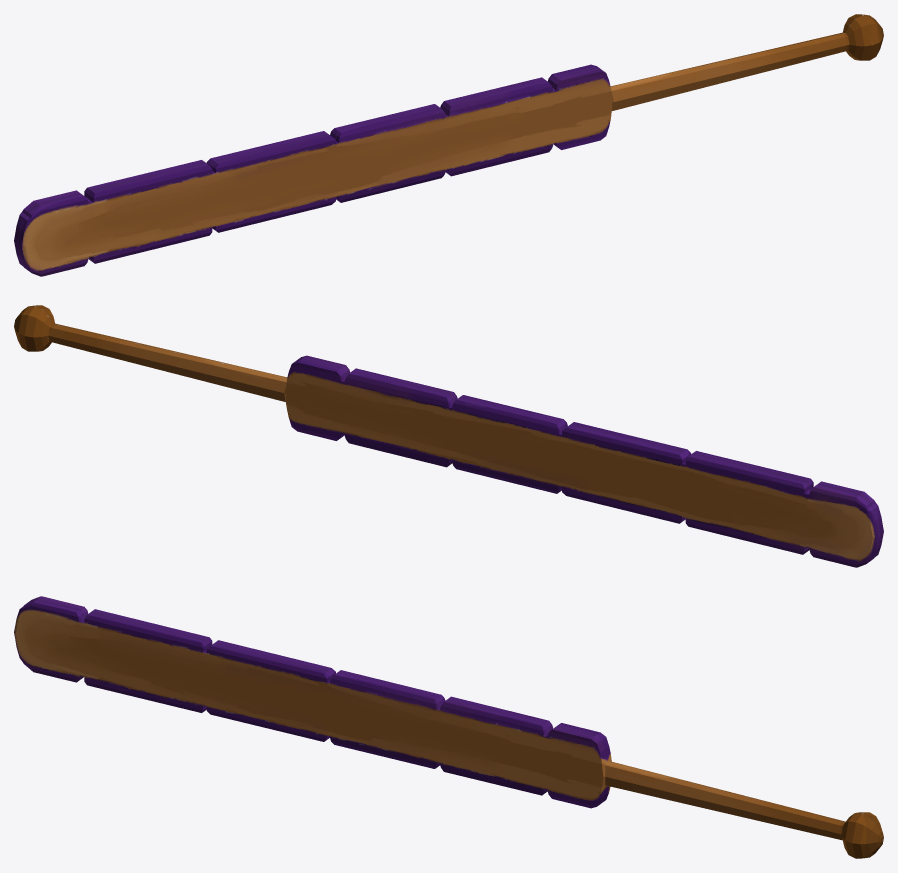
Rendered from CLub_Sword.obj.
The picture shows the model from 3 angles, top to bottom: view 1: azimuth 30°, elevation 25°; view 2: azimuth 150°, elevation 25°; view 3: azimuth 330°, elevation 25°; orthographic projection.
Parts seen in each view (by area): view 1: Club_sword; view 2: Club_sword; view 3: Club_sword.
Part boxes in pixels (left/top/right/bottom): Club_sword: left=14, top=14, right=883, bottom=276; Club_sword: left=14, top=305, right=883, bottom=567; Club_sword: left=14, top=596, right=883, bottom=858.
Size of the model in its own units: 22.59 by 1.76 by 0.9547.
1 material, 1 textured.
